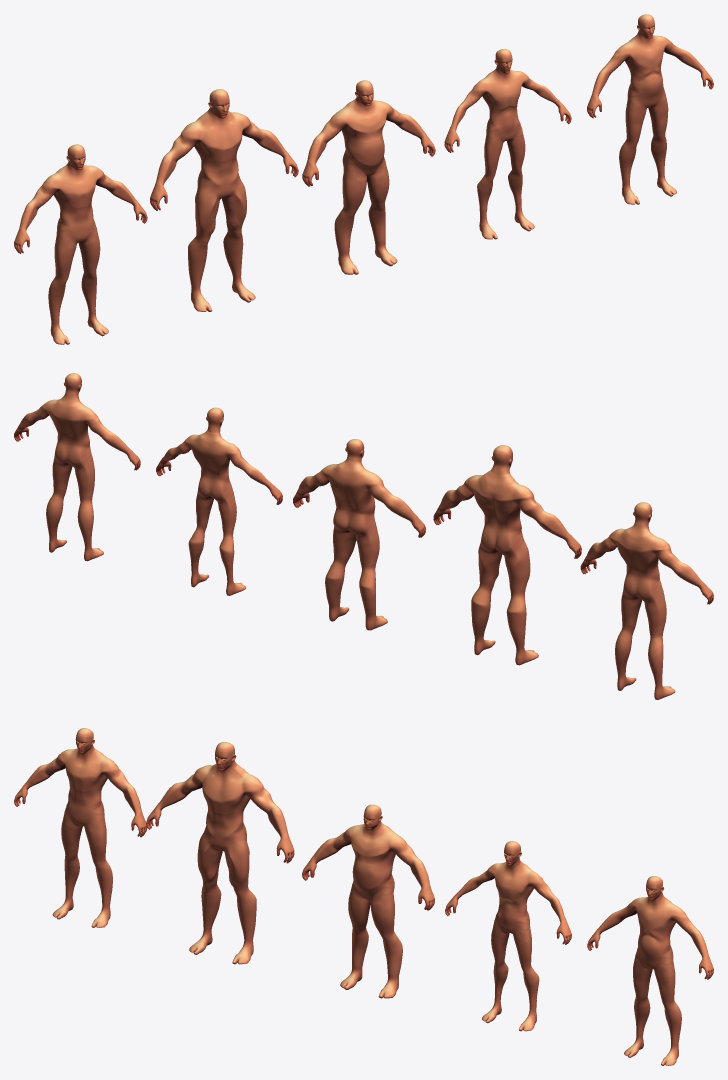
File: stylized_male_base_mesh_free.glb
The picture shows the model from 3 angles, top to bottom: view 1: azimuth 30°, elevation 25°; view 2: azimuth 150°, elevation 25°; view 3: azimuth 330°, elevation 25°; orthographic projection.
Visible parts, largest first — view 1: guy.002, guy.003, guy.001, guy.004, guy.005; view 2: guy.002, guy.003, guy.001, guy.004, guy.005; view 3: guy.002, guy.003, guy.001, guy.004, guy.005.
Boxes of the visible parts, x1,y1,x2,y2 form: guy.002: (150,89,298,311); guy.003: (302,80,435,274); guy.001: (14,144,147,344); guy.004: (587,14,713,204); guy.005: (444,48,571,239); guy.002: (433,445,581,665); guy.003: (293,439,425,630); guy.001: (580,502,713,699); guy.004: (14,373,140,561); guy.005: (156,407,282,595); guy.002: (146,742,294,964); guy.003: (302,804,434,998); guy.001: (14,728,147,927); guy.004: (587,876,713,1065); guy.005: (445,841,571,1031).
Size of the model in its own units: 7.84 by 2.27 by 0.4314.
5 materials, 5 textured.
